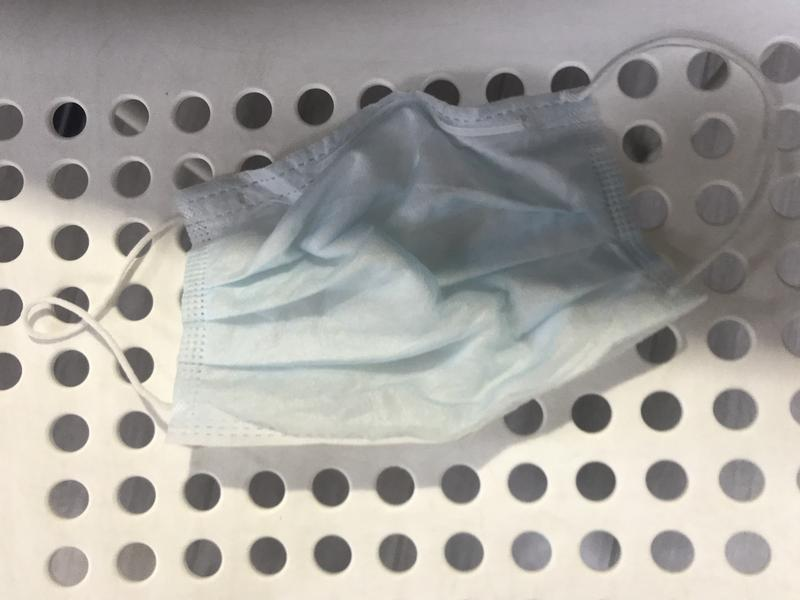medical_mask: (23, 37, 774, 451)
